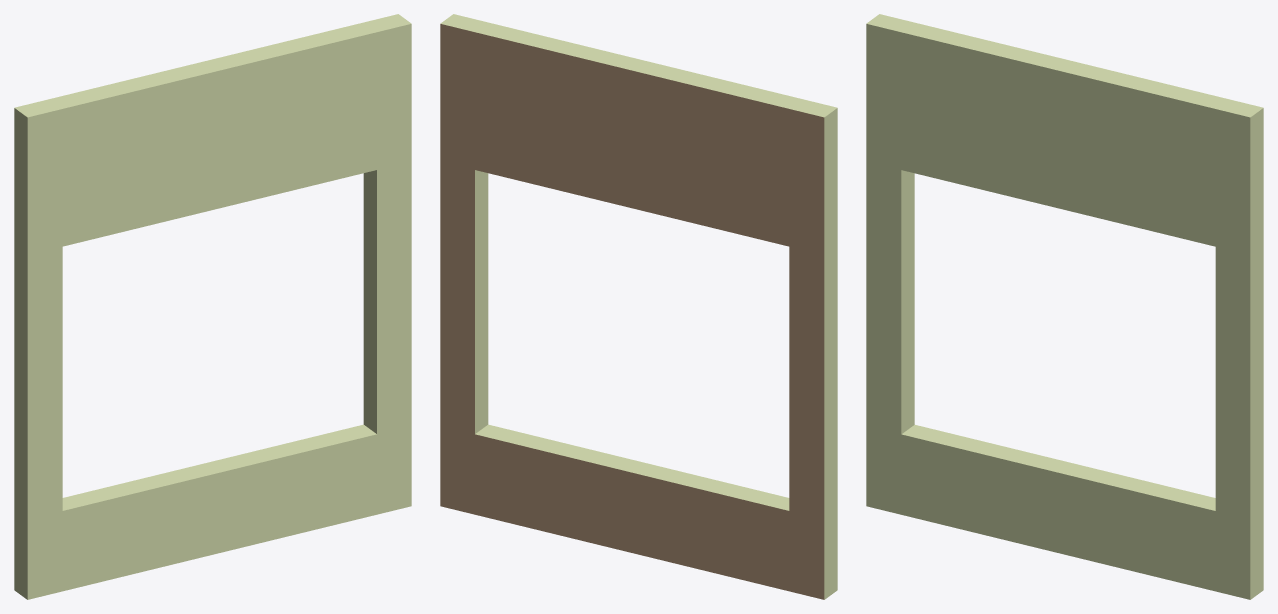
The model's file is Wall2_C5_05.fbx.
The picture shows the model from 3 angles, left to right: view 1: azimuth 30°, elevation 25°; view 2: azimuth 150°, elevation 25°; view 3: azimuth 330°, elevation 25°; orthographic projection.
Parts seen in each view (by area): view 1: Wall2_C5_05; view 2: Wall2_C5_05; view 3: Wall2_C5_05.
Boxes of the visible parts, x1,y1,x2,y2 form: Wall2_C5_05: [14, 14, 411, 599]; Wall2_C5_05: [440, 14, 837, 599]; Wall2_C5_05: [866, 14, 1263, 599].
Size of the model in its own units: 250 by 300 by 15.
